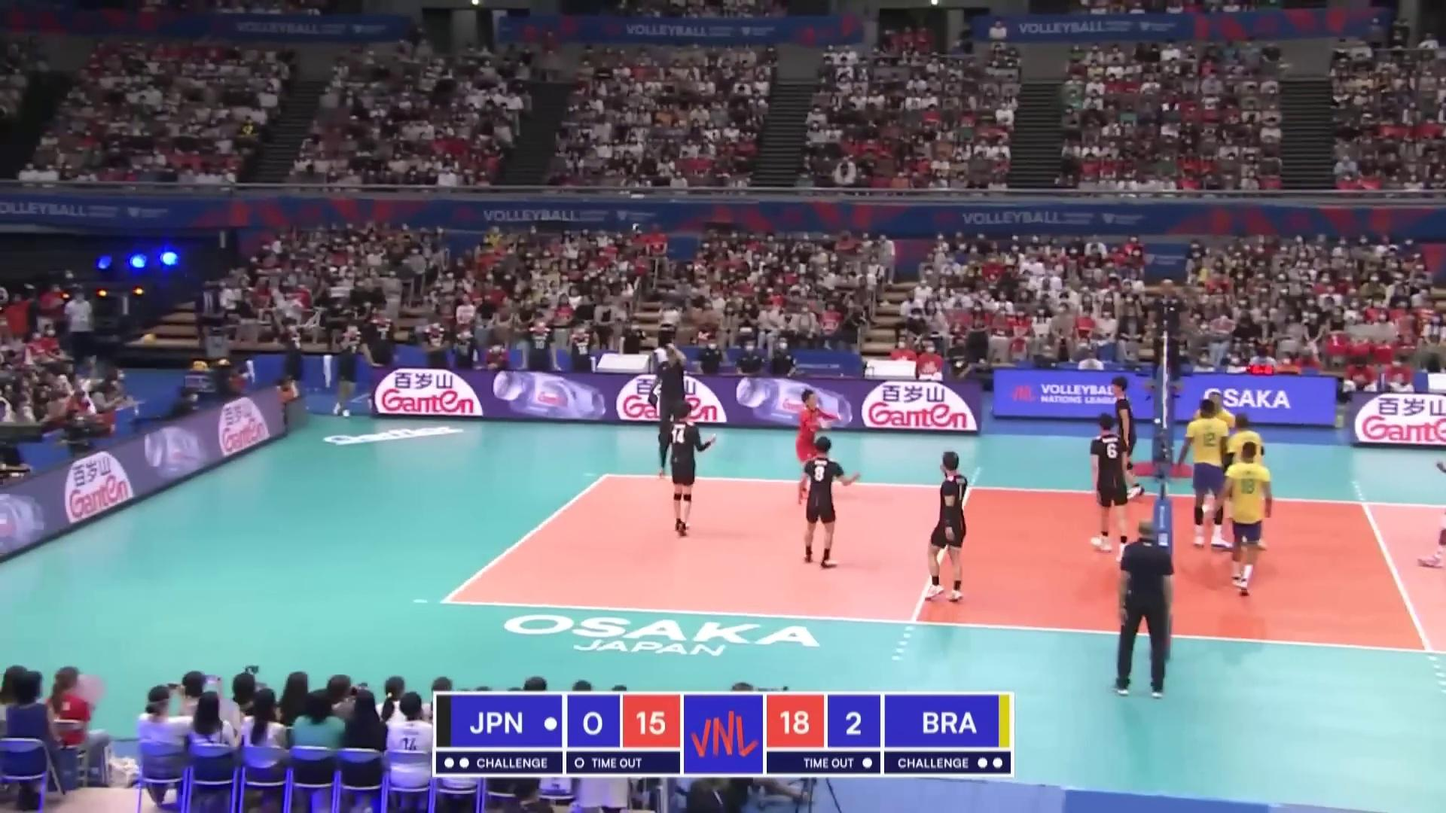player: (925, 452, 972, 603), (1227, 439, 1272, 596), (1186, 399, 1230, 552), (659, 402, 709, 535), (1226, 413, 1270, 551), (799, 438, 845, 568), (1194, 393, 1237, 522), (1092, 413, 1129, 559), (787, 389, 838, 494), (1109, 379, 1144, 500), (1422, 454, 1445, 570)
refree: (1117, 524, 1174, 698), (1148, 280, 1185, 392)
